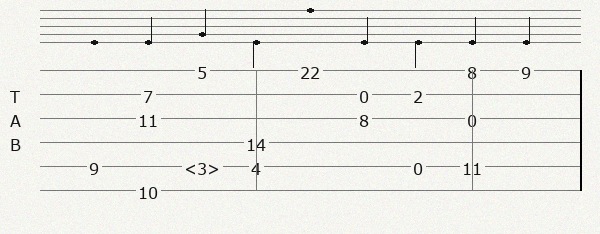0: (359, 86, 373, 102), (413, 158, 427, 174), (467, 110, 481, 126)
10: (138, 182, 162, 198)
11: (138, 110, 162, 126), (462, 158, 486, 174)
14: (246, 134, 270, 150)
2: (413, 86, 427, 102)
22: (300, 62, 324, 78)
4: (251, 158, 265, 174)
5: (197, 62, 211, 78)
7: (143, 86, 157, 102)
8: (359, 110, 373, 126), (467, 62, 481, 78)
9: (89, 158, 103, 174), (521, 62, 535, 78)
harmonic: (184, 158, 224, 174)
